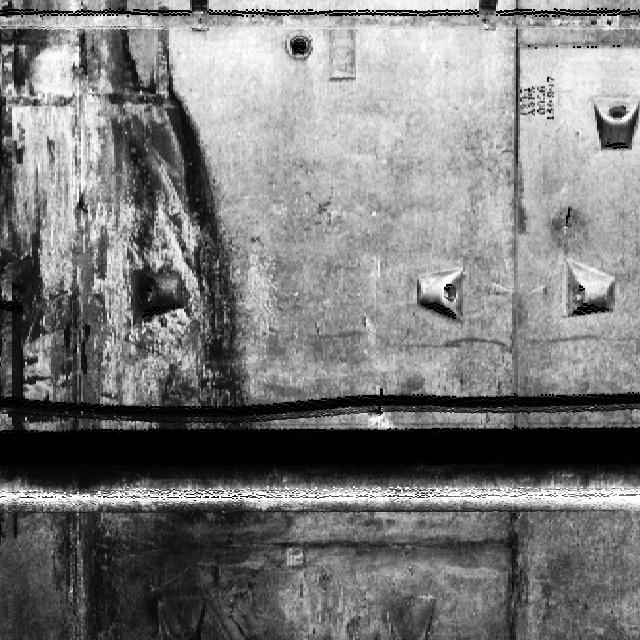leakage: (0, 0, 308, 637)
